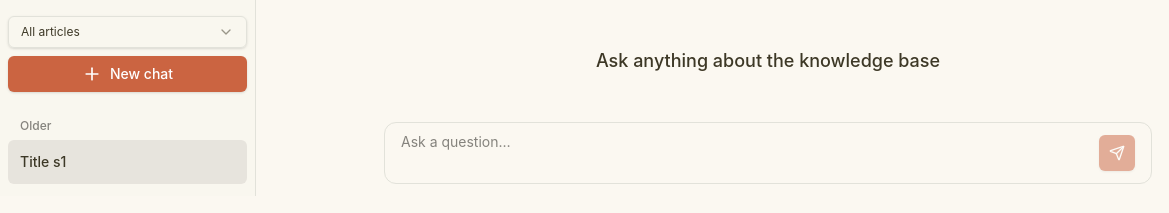
Test case: Chat page › managing sessions › renames a session in place
The image size is (1169, 213).
Double-click the button "Title s1" at [128, 162], box [8,140,247,184]
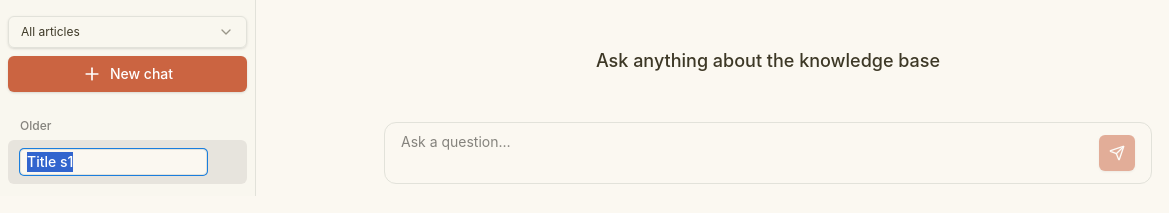
Replace the text in the field showing "Title s1" with "Pricing questions" at [114, 162], box [20,149,207,175]
Then press Enter
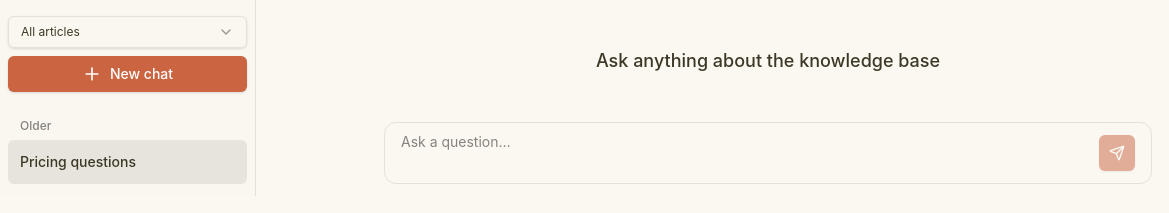
Expected: the text "Pricing questions" is shown, [20,152,136,172]
